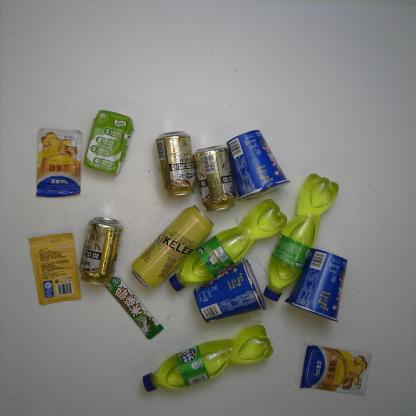Alcohol: (129, 201, 217, 293), (77, 213, 127, 289), (188, 142, 239, 214), (155, 127, 198, 198)
Chocolate: (101, 269, 164, 341)
Dessert: (281, 245, 352, 325), (192, 256, 268, 324), (224, 126, 291, 203)
Drink: (164, 195, 294, 296), (257, 172, 340, 302), (140, 325, 274, 397)
Milk: (80, 105, 136, 177)
Seasoner: (295, 344, 376, 399), (25, 229, 81, 307), (31, 123, 86, 201)
